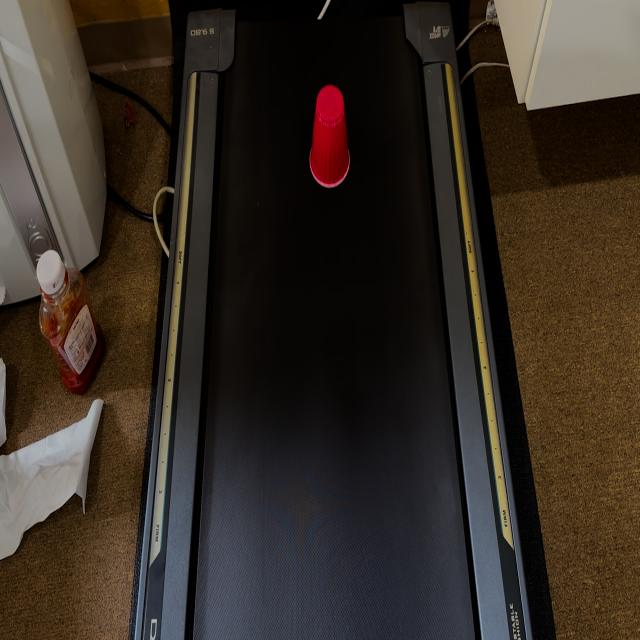Recycle: (308, 82, 351, 187)
